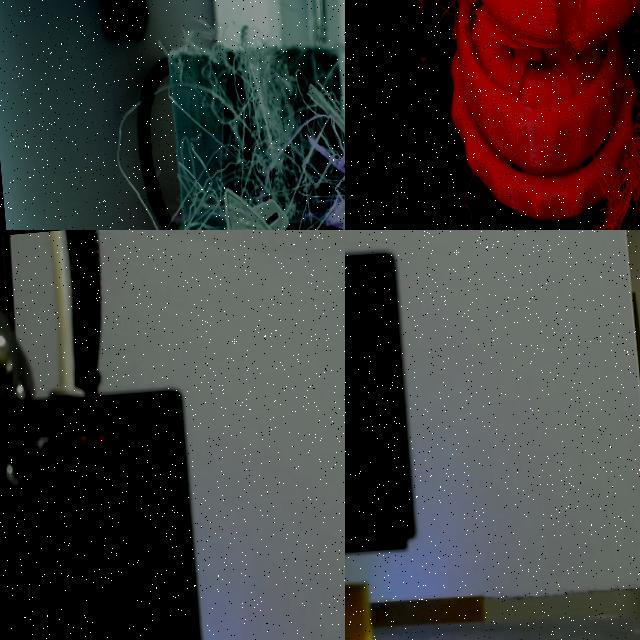spaghetti: (132, 32, 345, 230), (355, 0, 462, 46)
